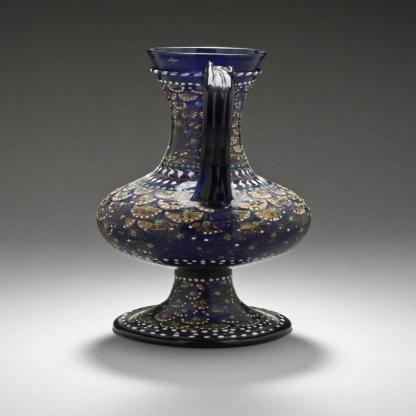vase: (92, 45, 314, 348)
